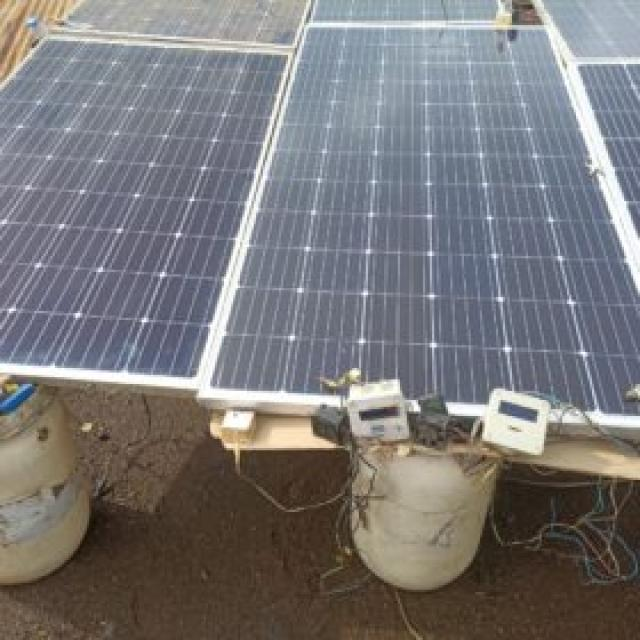faulty: (210, 29, 640, 413), (0, 36, 289, 371), (68, 1, 308, 49), (547, 0, 640, 64)
